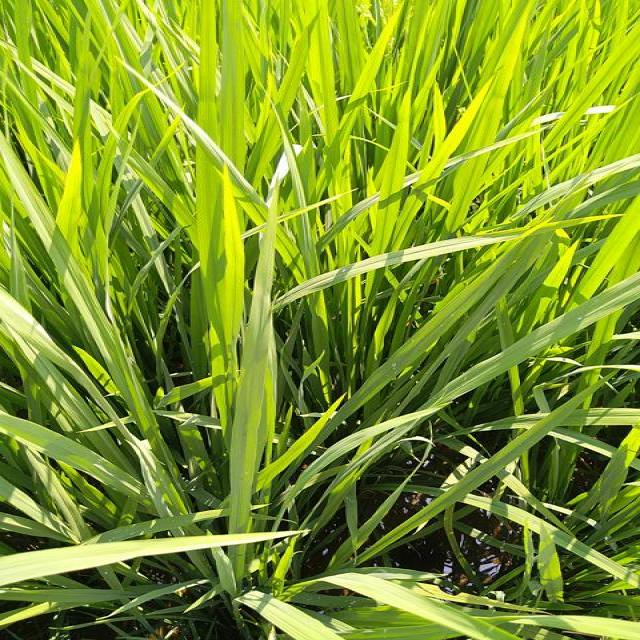Rice: (5, 140, 153, 408), (0, 410, 196, 523), (425, 70, 508, 282), (190, 0, 232, 416), (231, 164, 273, 556), (556, 188, 640, 363), (330, 443, 435, 568), (421, 315, 554, 410), (364, 83, 413, 320), (247, 20, 310, 188), (309, 8, 344, 144), (532, 517, 574, 605)
